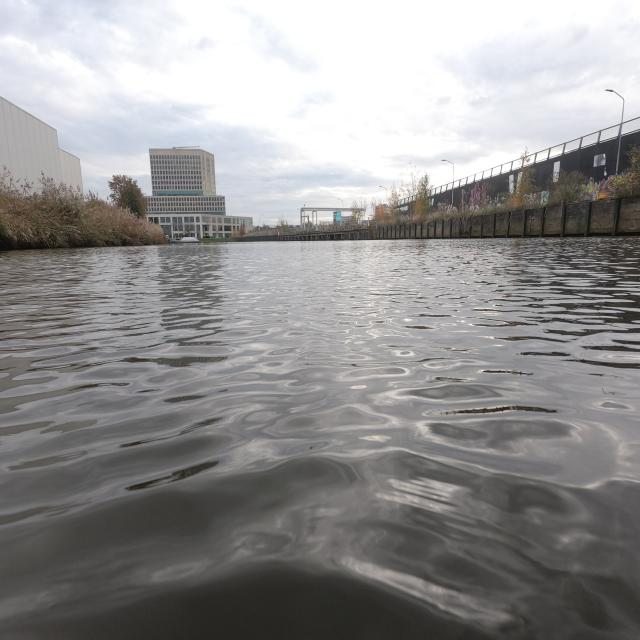boat: (170, 236, 199, 244)
reed: (0, 171, 165, 249)
wall: (376, 198, 640, 239)
water: (0, 232, 640, 640)
